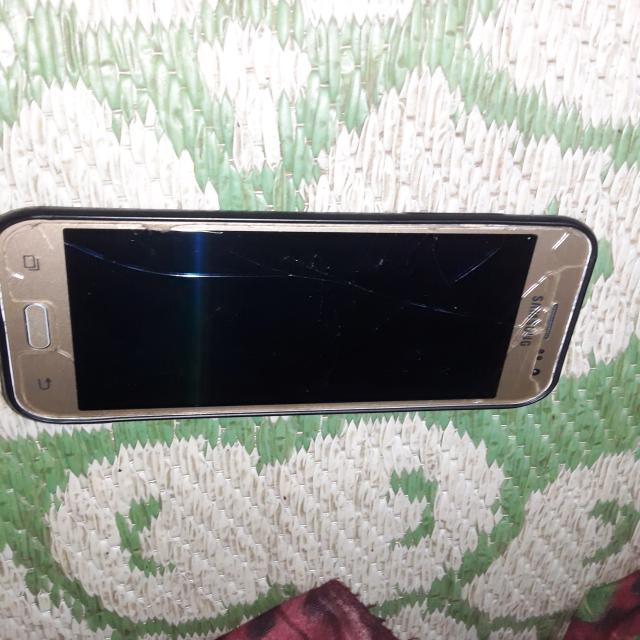screen crack: (0, 211, 242, 301), (467, 222, 578, 407)
